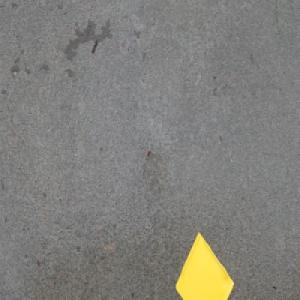PlasticPart: (174, 229, 235, 300)
